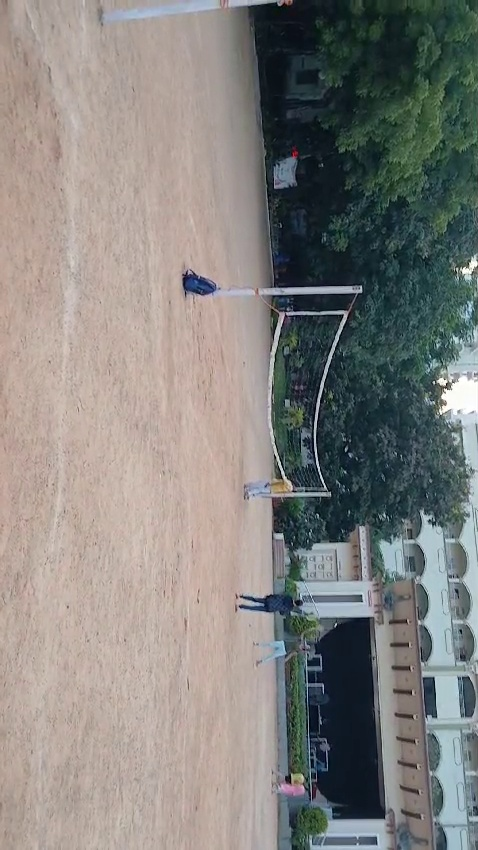bag: (173, 265, 223, 309)
